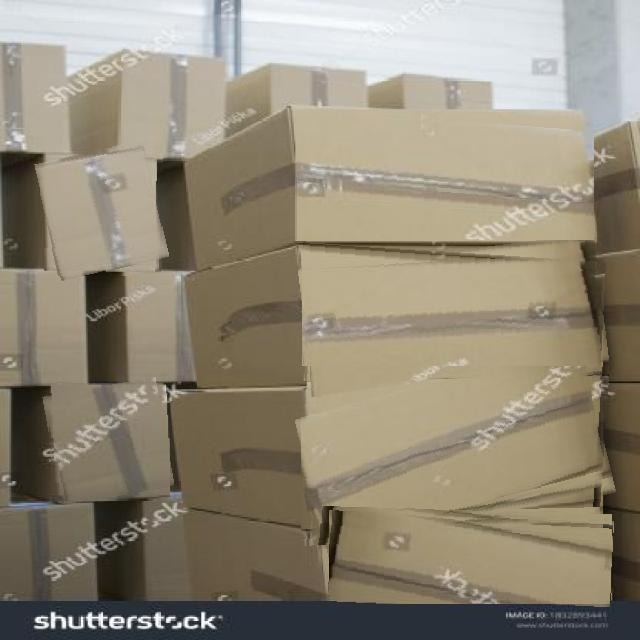BoxFace: (301, 366, 610, 546), (302, 242, 606, 389), (295, 109, 594, 240), (329, 510, 613, 604), (40, 146, 163, 276), (47, 381, 170, 501)
